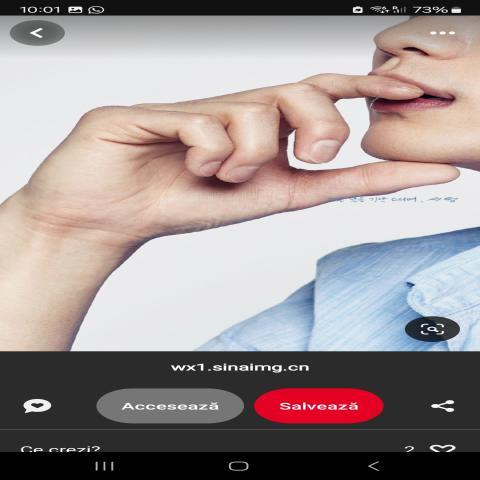Hands: (40, 30, 465, 299)
